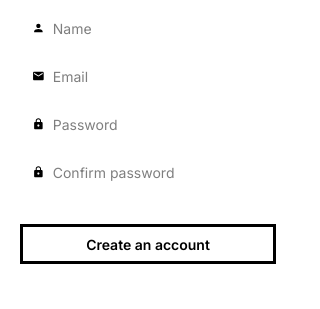
SignupForm › shows a rejected field against that field
Type "Ada" into the field with placeholder "Name" at (158, 28), box [53,8,264,48]
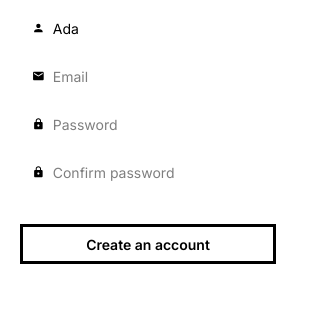
Type "ada@example.com" into the field with placeholder "Email" at (158, 76), box [53,56,264,96]
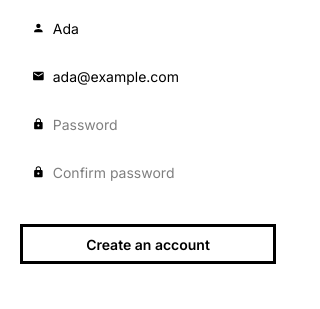
Type "hunter2hunter2" into the password field with placeholder "Password" at (158, 124), box [53,104,264,144]
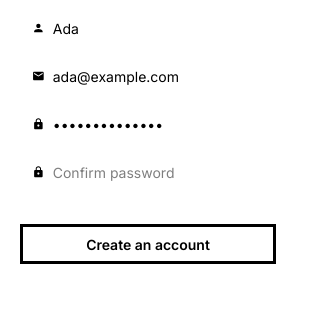
Type "hunter2hunter2" into the password field with placeholder "Confirm password" at (158, 172), box [53,152,264,192]
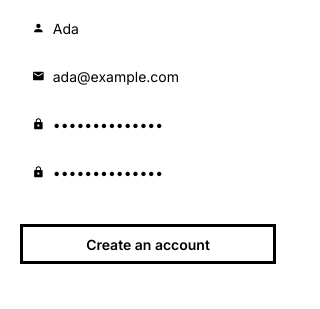
Click the button "Create an account" at (148, 244), box [20,224,276,264]
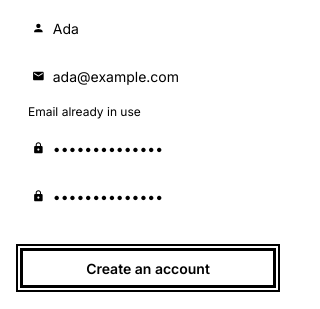
Result: the text "Email already in use" is shown at [28,104,141,119]
